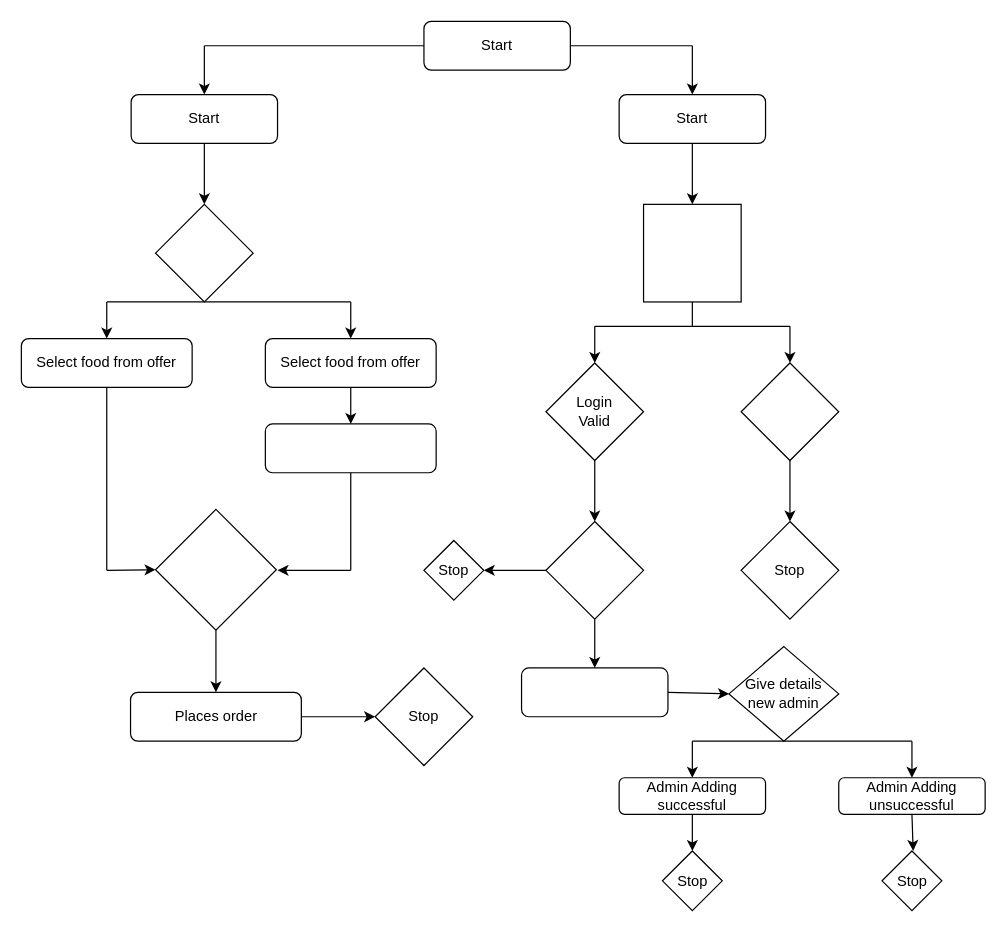
This 1007x932 diagram has some shape labels left out. The centre of each missing label's shape, as x and y in pixels:
Add Admin: (x=594, y=692)
Attempts Login: (x=691, y=252)
Gives his/her details: (x=215, y=569)
Login Invalid: (x=789, y=411)
Select food from main page: (x=350, y=448)
Show Admin Page: (x=594, y=569)
View Main Page: (x=203, y=252)
